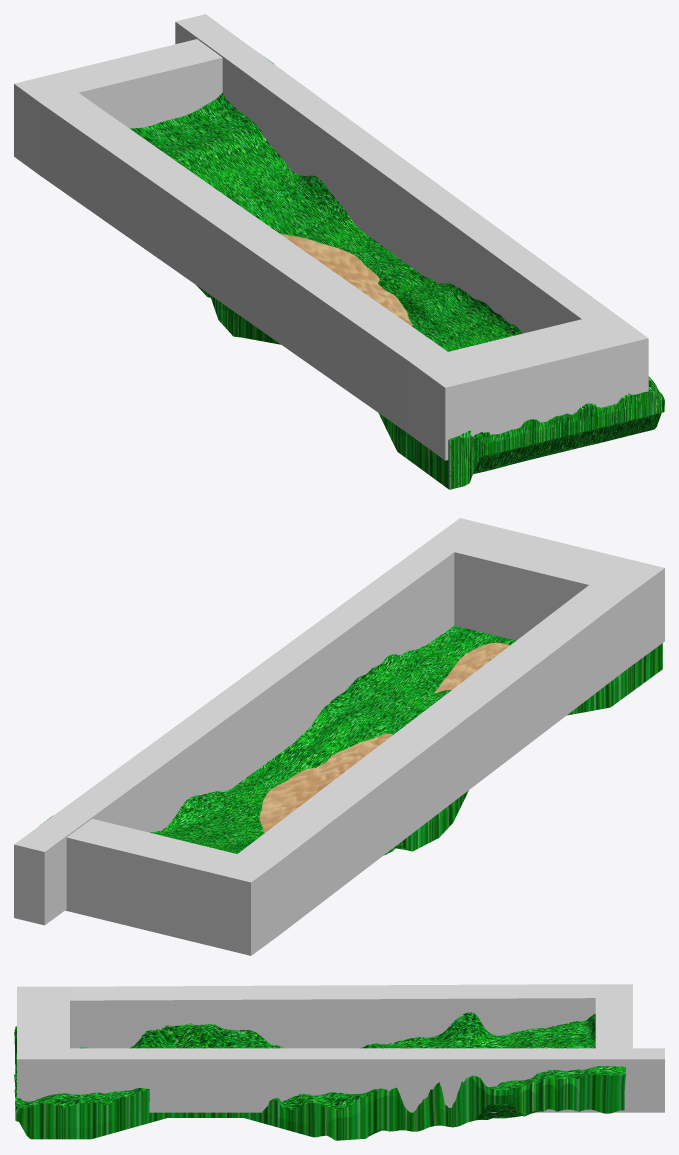
The model's file is firstLevel.glb.
3 views of the same model, one above another, from view 1: azimuth 30°, elevation 25°; view 2: azimuth 150°, elevation 25°; view 3: azimuth 270°, elevation 25° (orthographic). The views are drawn at different scales.
Parts seen in each view (by area): view 1: wall, ground, roud; view 2: wall, ground, roud; view 3: wall, ground.
Part boxes in pixels (bbox=[...]): wall: bbox=[14, 14, 648, 460]; ground: bbox=[129, 57, 664, 489]; roud: bbox=[280, 234, 412, 325]; wall: bbox=[14, 518, 664, 955]; ground: bbox=[44, 625, 662, 855]; roud: bbox=[259, 642, 509, 832]; wall: bbox=[17, 984, 664, 1112]; ground: bbox=[14, 1012, 625, 1140].
Bounding box in the file's own units: 57.78 × 26.54 × 193.
Materials: 2 (2 with a texture image).
